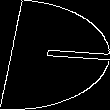L_W: (7, 36, 103, 74)
